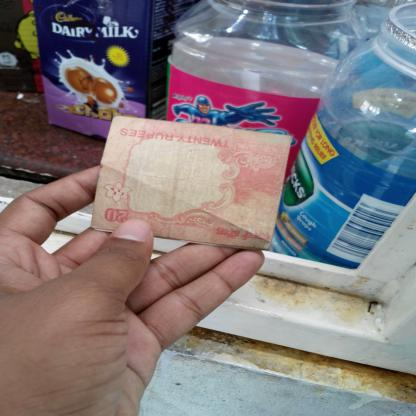Old20Back: (100, 128, 290, 248)
